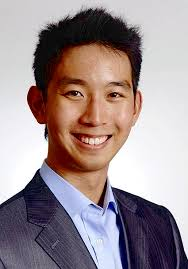asian_male: (51, 71, 126, 157)
